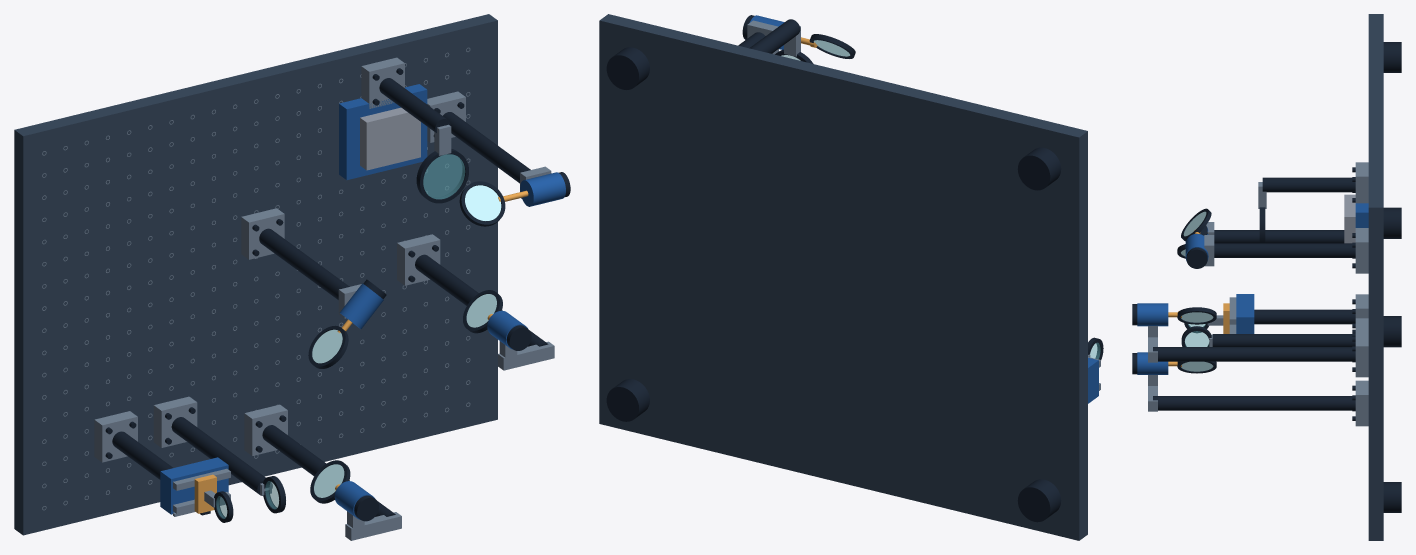
The model's file is 五轴扫描头-工程结构V1.glb.
3 views of the same model, side by side, from view 1: azimuth 30°, elevation 25°; view 2: azimuth 150°, elevation 25°; view 3: azimuth 270°, elevation 25° (orthographic). The views are drawn at different scales.
Visible parts, largest first — view 1: 静止光学平台 560×450×18, 静止平台与工件, 工件_上表面Z0, 固定工件台_无电机, L2-立柱, M2-立柱, M5-直线电机定子, M4-立柱, L3-单片基体, L2-底座, M1-底座, M5-底座 (+21 smaller); view 2: 静止光学平台 560×450×18, 隔振脚_被动 (×4), L3-立柱; view 3: 静止光学平台 560×450×18, M1-立柱, M3-立柱, 隔振脚_被动 (×4), M4-立柱, L2-立柱, M2-立柱, M5-立柱, L3-立柱, M5-直线电机定子, M3-旋转振镜电机, M1-底座 (+10 smaller).
Part boxes in pixels (box(x1,y1,x2,y2)): 静止光学平台 560×450×18: box(14, 14, 497, 535); 静止平台与工件: box(42, 47, 470, 510); 工件_上表面Z0: box(360, 107, 420, 170); 固定工件台_无电机: box(339, 84, 427, 179); L2-立柱: box(171, 417, 272, 495); M2-立柱: box(259, 228, 349, 299); M5-直线电机定子: box(160, 457, 228, 514); M4-立柱: box(443, 112, 530, 183); L3-单片基体: box(423, 154, 465, 199); L2-底座: box(153, 396, 197, 447); M1-底座: box(244, 404, 287, 455); M5-底座: box(94, 411, 137, 462); 静止光学平台 560×450×18: box(599, 14, 1087, 540); 隔振脚_被动 (×4): box(606, 47, 1061, 522); L3-立柱: box(749, 19, 800, 53); 静止光学平台 560×450×18: box(1368, 14, 1383, 540); M1-立柱: box(1153, 396, 1355, 410); M3-立柱: box(1153, 347, 1355, 361); 隔振脚_被动 (×4): box(1383, 42, 1401, 512); M4-立柱: box(1214, 243, 1355, 257); L2-立柱: box(1212, 334, 1355, 346); M2-立柱: box(1214, 230, 1344, 243); M5-立柱: box(1254, 309, 1355, 324); L3-立柱: box(1262, 177, 1355, 192); M5-直线电机定子: box(1236, 294, 1254, 333); M3-旋转振镜电机: box(1137, 303, 1168, 326); M1-底座: box(1355, 380, 1368, 426).
Bounding box in the file's own units: 0.56 × 0.45 × 0.329.
